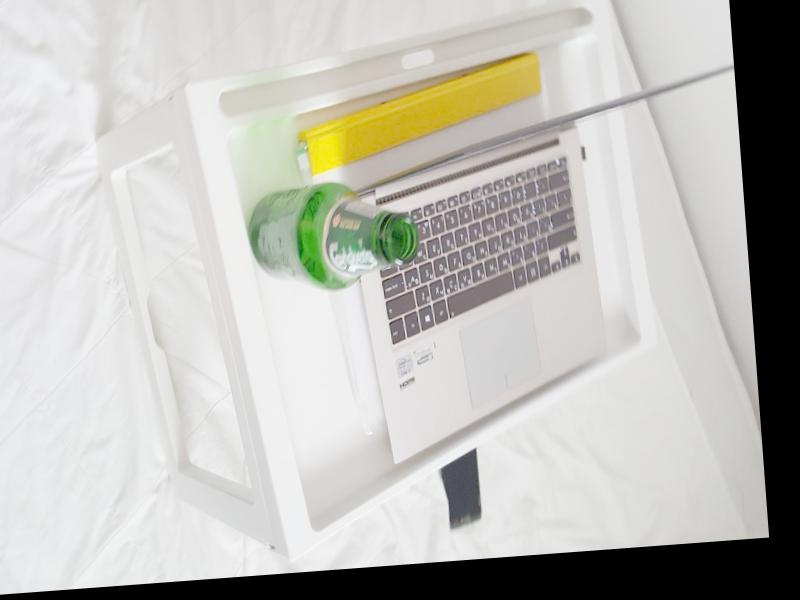Beer: (245, 177, 421, 294)
